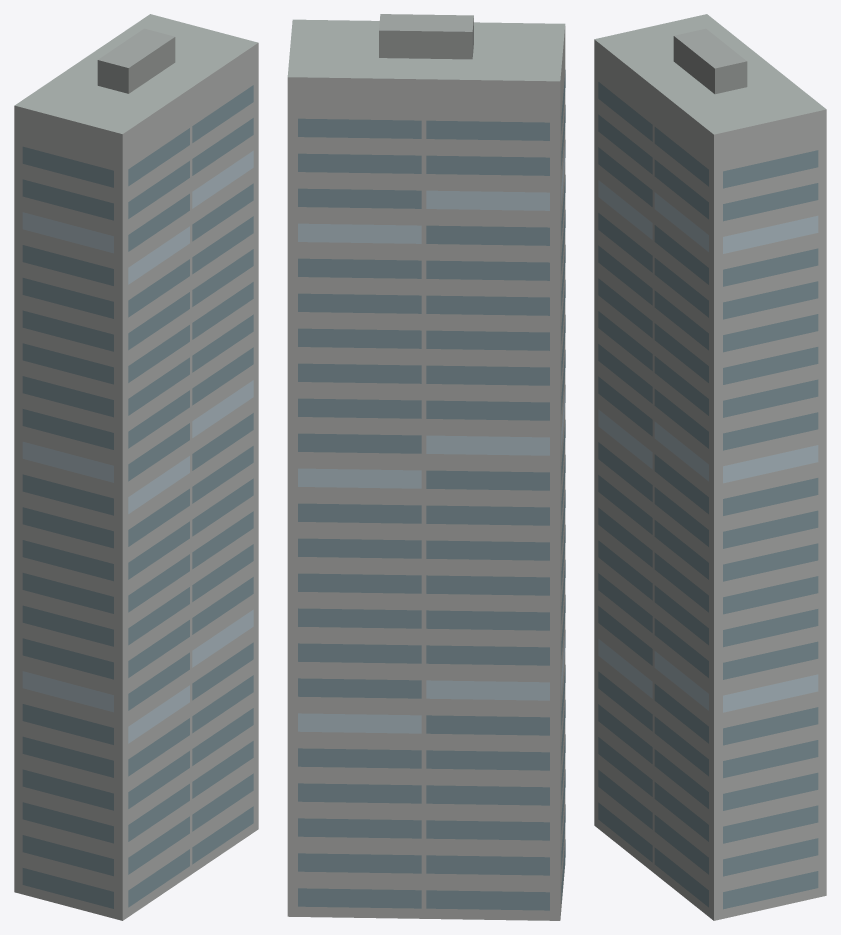
The model's file is fallback-olympic-athletes-village-312.glb.
The picture shows the model from 3 angles, left to right: view 1: azimuth 30°, elevation 25°; view 2: azimuth 150°, elevation 25°; view 3: azimuth 270°, elevation 25°; orthographic projection. The views are drawn at different scales.
Visible parts, largest first — view 1: fallback-olympic-athletes-village-312; view 2: fallback-olympic-athletes-village-312; view 3: fallback-olympic-athletes-village-312.
Part boxes in pixels (x1,y1,x2,y2): fallback-olympic-athletes-village-312: (14, 14, 258, 920); fallback-olympic-athletes-village-312: (287, 14, 565, 920); fallback-olympic-athletes-village-312: (594, 14, 826, 920).
Size of the model in its own units: 24.1 by 75.6 by 19.61.
